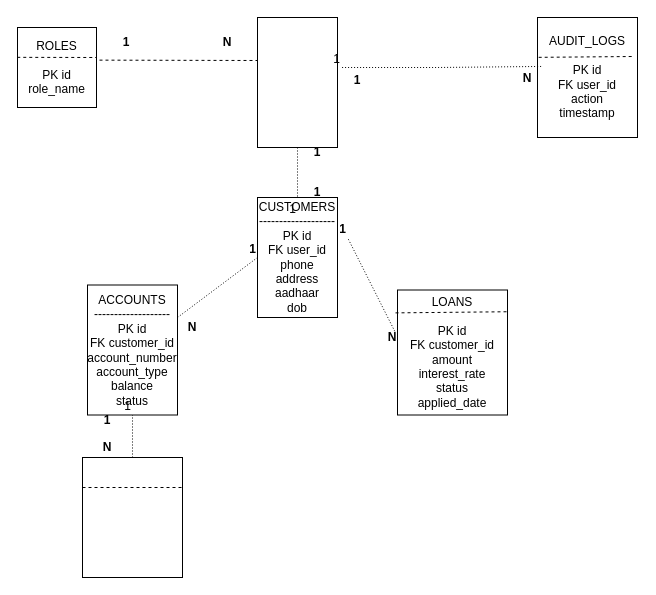
The diagram is 656 pixels wide and 595 high, and some of its shapes have lost their labels. Here are the shapes that lost their labels. From the top down, the centre of each, then its label:
pixel 297 82: USERS ------------------- PK id name email password FK role_id created_at
pixel 132 517: TRANSACTIONS PK id FK account_id type amount transaction_date description
